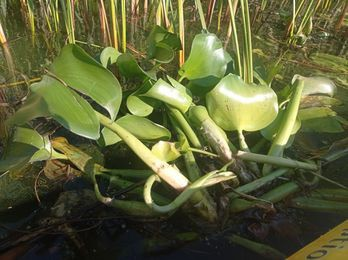water_hyacinth: (9, 36, 346, 230)
